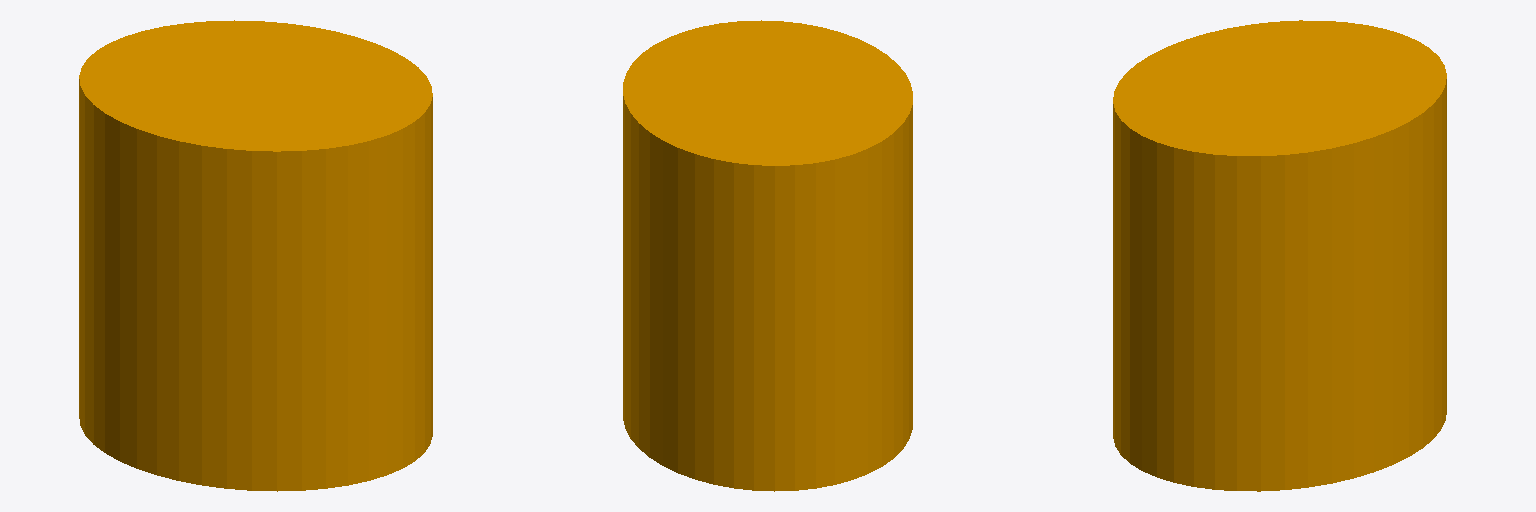
robot.urdf — object:
<?xml version="1.0"?>
<robot name="object">
  <link name="object">
    <visual>
      <origin xyz="0 0 0"/>
      <geometry>
        <mesh filename="meshes/generated/col_069.obj" scale="0.03 0.03 0.03"/>
      </geometry>
    </visual>
    <collision>
      <origin xyz="0 0 0"/>
      <geometry>
        <mesh filename="meshes/generated/col_069.obj" scale="0.03 0.03 0.03"/>
      </geometry>
    </collision>
    <inertial>
      <density value="1000.0"/>
    </inertial>
  </link>
</robot>

--- Facts derived from the render (not from the file) ---
Views: 3 orthographic renders of the robot side by side, from view 1: azimuth 30°, elevation 25°; view 2: azimuth 150°, elevation 25°; view 3: azimuth 270°, elevation 25°.
Model object with 1 links and 0 joints (none), rooted at object, posed all joints at 0.
Visible links, largest first — view 1: object; view 2: object; view 3: object.
Link boxes in pixels (x1,y1,x2,y2): object: (79,20,432,491); object: (623,20,912,491); object: (1113,20,1446,491).
Bounding box of the posed robot: 0.0521 × 0.0542 × 0.06 m (x, y, z).
Meshes: 1 distinct files referenced, 1 mesh visuals loaded (1 OBJ).
